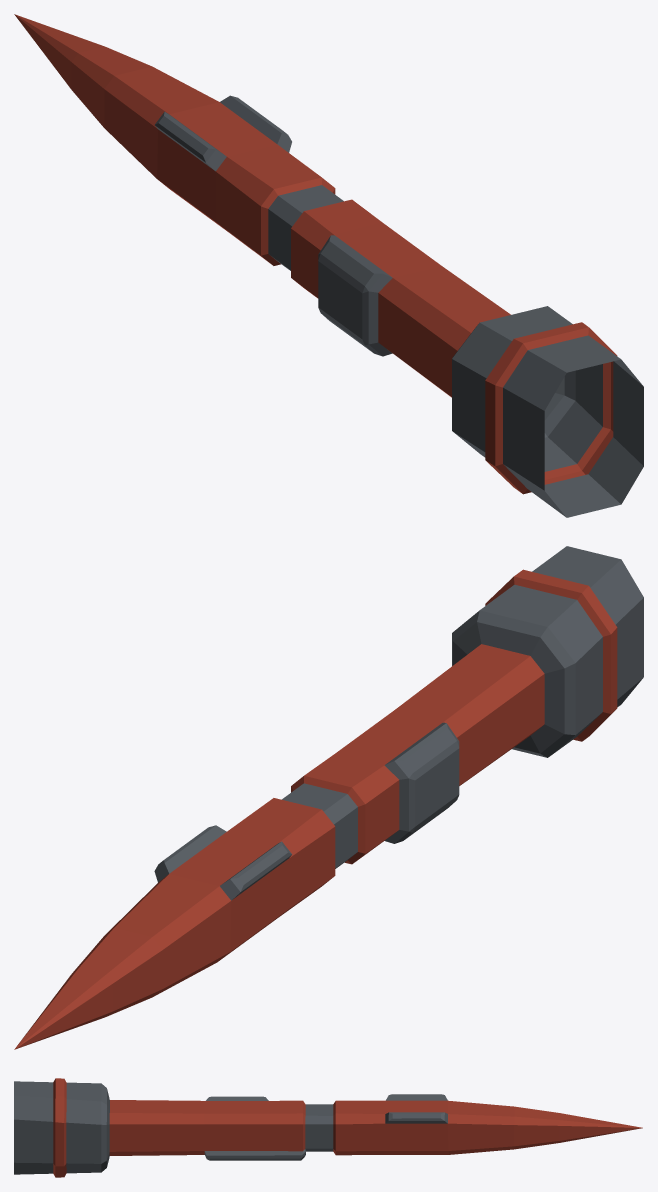
Rendered from Mothership_02_Tip_Red.fbx.
3 views of the same model, one above another, from view 1: azimuth 30°, elevation 25°; view 2: azimuth 150°, elevation 25°; view 3: azimuth 270°, elevation 25° (orthographic). The views are drawn at different scales.
Parts seen in each view (by area): view 1: Mothership_02_Tip_Red; view 2: Mothership_02_Tip_Red; view 3: Mothership_02_Tip_Red.
Boxes of the visible parts, <box> form: Mothership_02_Tip_Red: <box>14,14,643,517</box>; Mothership_02_Tip_Red: <box>14,546,643,1049</box>; Mothership_02_Tip_Red: <box>14,1078,642,1177</box>.
Bounding box in the file's own units: 283 × 324 × 2257.
Materials: 1 (1 with a texture image).
